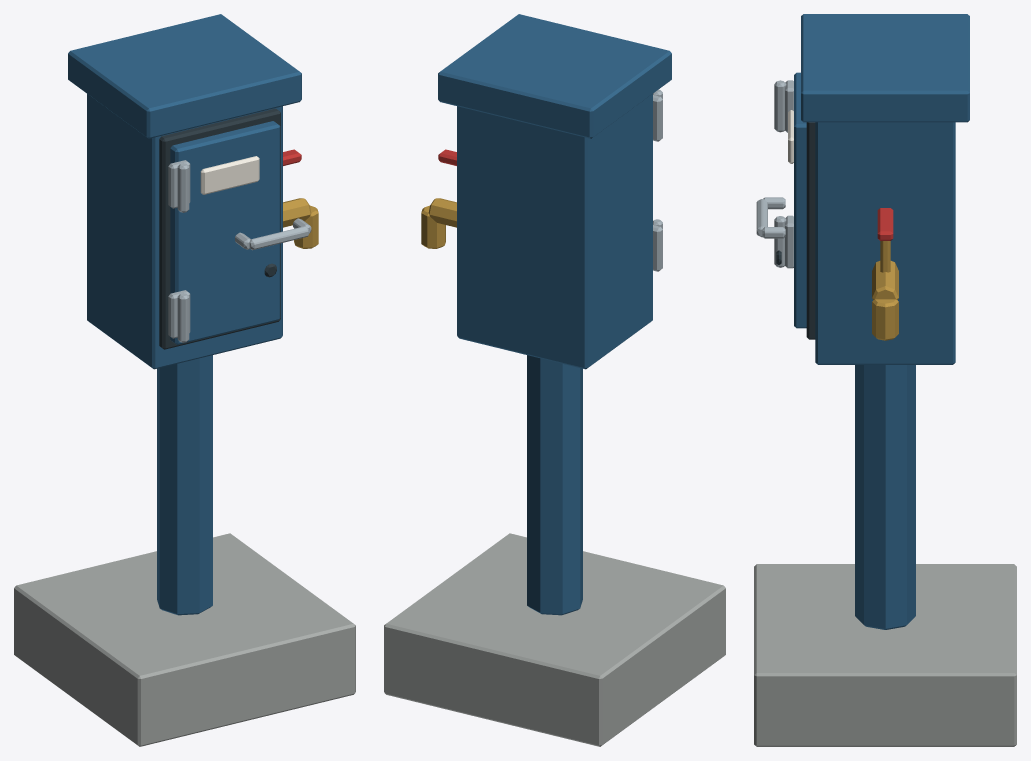
Rendered from b05_water_sampling_station.glb.
3 views of the same model, side by side, from view 1: azimuth 30°, elevation 25°; view 2: azimuth 150°, elevation 25°; view 3: azimuth 270°, elevation 25° (orthographic). The views are drawn at different scales.
Visible parts, largest first — view 1: b05_water_sampling_station; view 2: b05_water_sampling_station; view 3: b05_water_sampling_station.
Boxes of the visible parts, x1,y1,x2,y2 form: b05_water_sampling_station: (14,14,355,746); b05_water_sampling_station: (384,14,725,746); b05_water_sampling_station: (754,14,1016,746).
Bounding box in the file's own units: 0.498 × 1.21 × 0.45.
